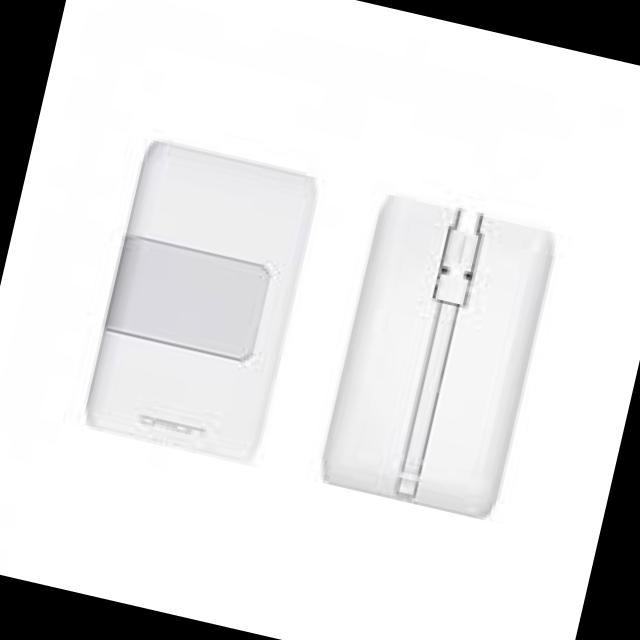portable-charger: (313, 187, 564, 527), (81, 137, 325, 466)
